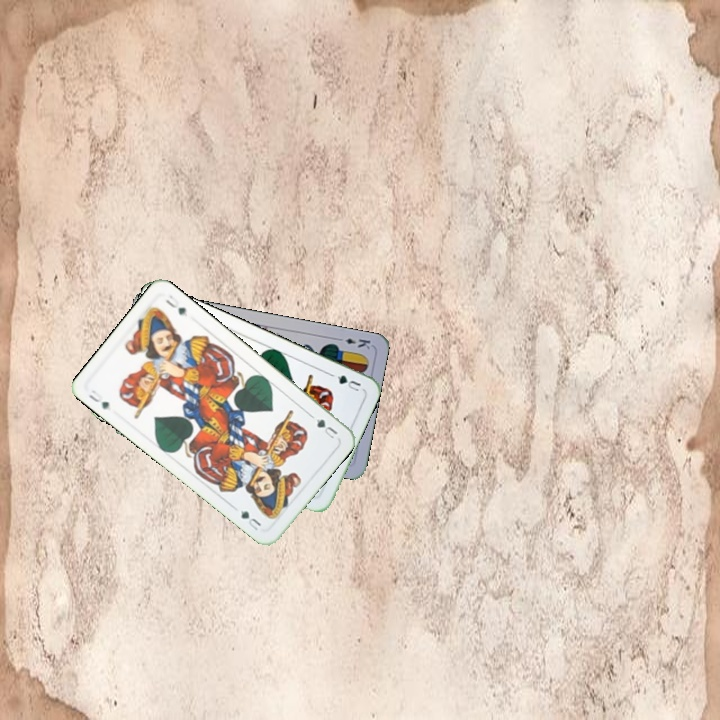EK: (333, 334, 373, 352)
GU: (327, 370, 363, 395), (311, 414, 340, 441), (84, 386, 112, 412)
